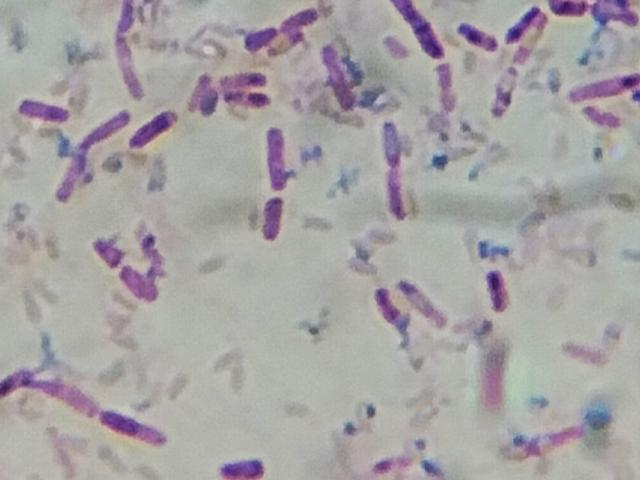E. coli: (0, 364, 90, 419), (100, 407, 171, 452), (393, 0, 444, 60), (569, 74, 640, 104), (76, 111, 137, 145), (398, 275, 440, 323), (323, 45, 353, 112), (18, 92, 71, 128), (265, 122, 292, 187), (366, 284, 399, 333), (127, 115, 182, 143), (386, 169, 413, 225), (57, 150, 85, 202), (113, 1, 137, 60), (260, 194, 287, 244), (117, 61, 146, 107), (118, 265, 153, 302), (457, 21, 496, 54), (487, 266, 510, 319), (601, 0, 638, 29), (240, 25, 278, 52), (222, 455, 263, 479), (283, 10, 327, 32), (506, 5, 537, 36), (438, 64, 457, 114), (190, 82, 213, 123), (94, 234, 122, 266), (385, 120, 404, 167), (229, 90, 269, 111), (549, 0, 584, 20)
